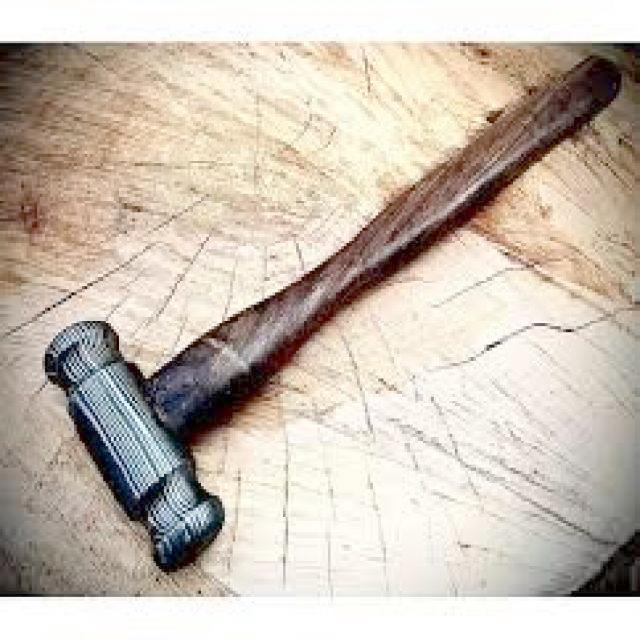hammer: (36, 49, 630, 582)
